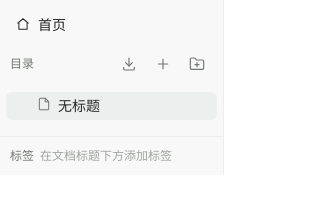
Test: PageTreeSidebar document/group 分对象门控（R008 Stage 0） › group.rename=true（Web 语义）：新建分组仍自动进入重命名
Click the button named "新建分组" at (197, 64), box [181,48,213,80]
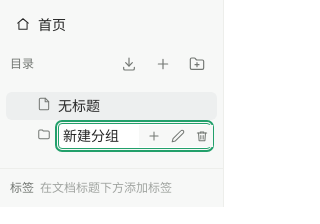
Check: the field with class "tree-row__rename" is shown, box [58,123,211,149]
